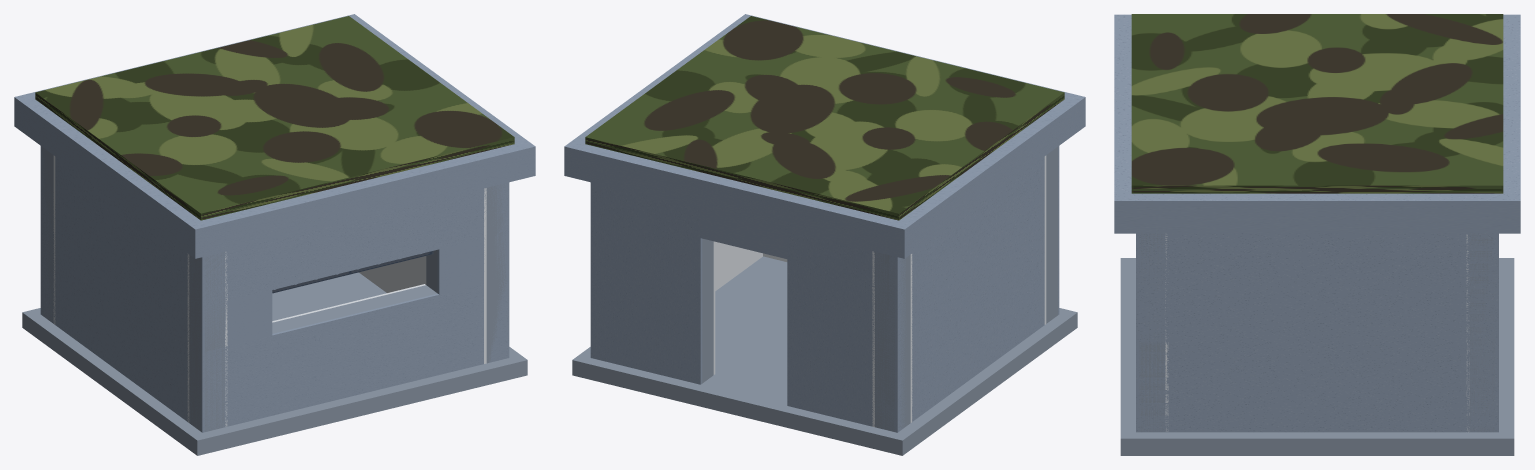
File: bunker_pillbox_concrete.glb
The picture shows the model from 3 angles, left to right: view 1: azimuth 30°, elevation 25°; view 2: azimuth 150°, elevation 25°; view 3: azimuth 270°, elevation 25°; orthographic projection. The views are drawn at different scales.
Parts seen in each view (by area): view 1: bunker_pillbox_concrete, bunker_shutter_pivot; view 2: bunker_pillbox_concrete; view 3: bunker_pillbox_concrete.
Part boxes in pixels (box(x1,y1,x2,y2)): bunker_pillbox_concrete: box(14, 14, 535, 455); bunker_shutter_pivot: box(272, 251, 433, 293); bunker_pillbox_concrete: box(564, 14, 1085, 455); bunker_pillbox_concrete: box(1114, 14, 1520, 455).
Size of the model in its own units: 5.1 by 3.39 by 4.7.
Materials: 5 (3 with a texture image).
